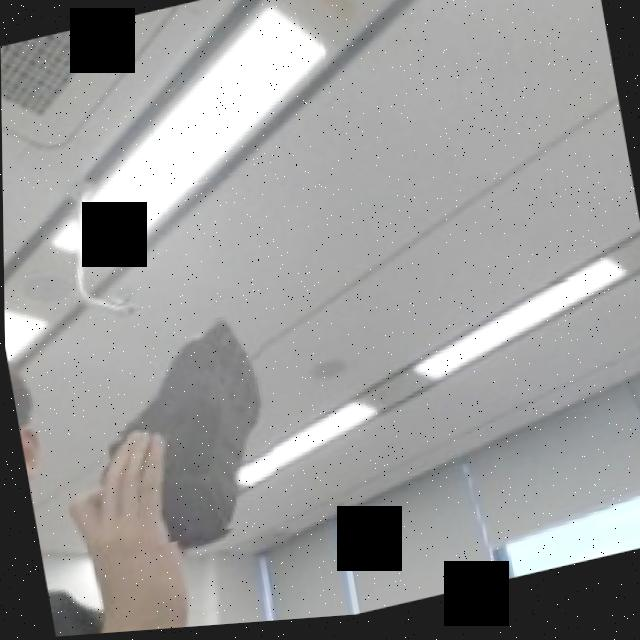shoe: (108, 310, 289, 553)
